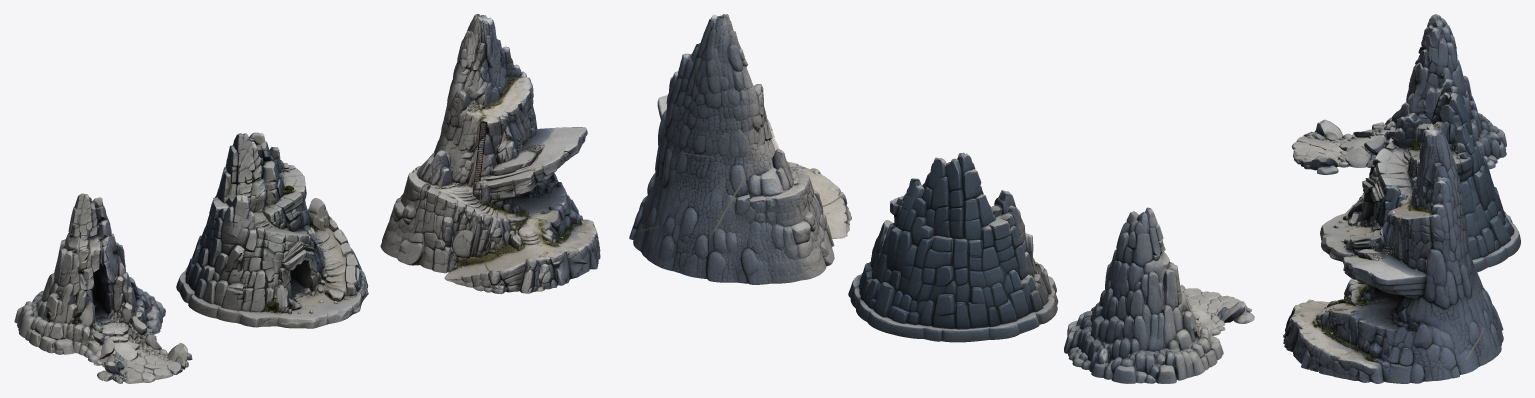
File: 3_evil_rock_mountains_with_cave_stylized.glb
3 renders of one model, left to right at view 1: azimuth 30°, elevation 25°; view 2: azimuth 150°, elevation 25°; view 3: azimuth 270°, elevation 25°, orthographic. The views are drawn at different scales.
Parts seen in each view (by area): view 1: Cave Rock Mountain3, Cave Rock Mountain2, Cave Rock Mountain1; view 2: Cave Rock Mountain3, Cave Rock Mountain2, Cave Rock Mountain1; view 3: Cave Rock Mountain3, Cave Rock Mountain2, Cave Rock Mountain1.
Part boxes in pixels (x1,y1,x2,y2): Cave Rock Mountain3: (380, 14, 600, 294); Cave Rock Mountain2: (176, 132, 368, 328); Cave Rock Mountain1: (14, 193, 192, 383); Cave Rock Mountain3: (629, 14, 851, 284); Cave Rock Mountain2: (848, 152, 1058, 342); Cave Rock Mountain1: (1064, 207, 1254, 383); Cave Rock Mountain3: (1283, 123, 1503, 383); Cave Rock Mountain2: (1320, 79, 1520, 272); Cave Rock Mountain1: (1291, 14, 1506, 174).
Size of the model in its own units: 72.95 by 28.21 by 27.91.
Materials: 4 (4 with a texture image).
